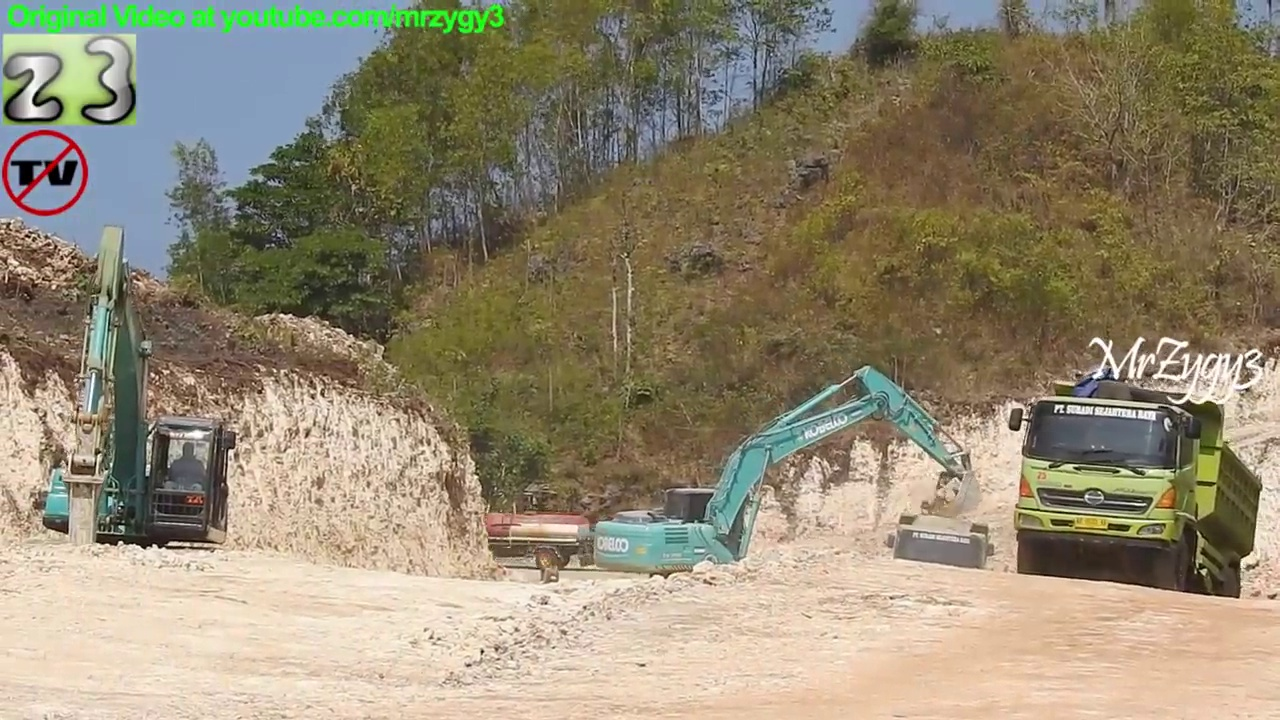excavator: (588, 359, 984, 616), (36, 219, 243, 590)
truck: (1002, 374, 1268, 613), (881, 507, 999, 619), (426, 506, 591, 576)
